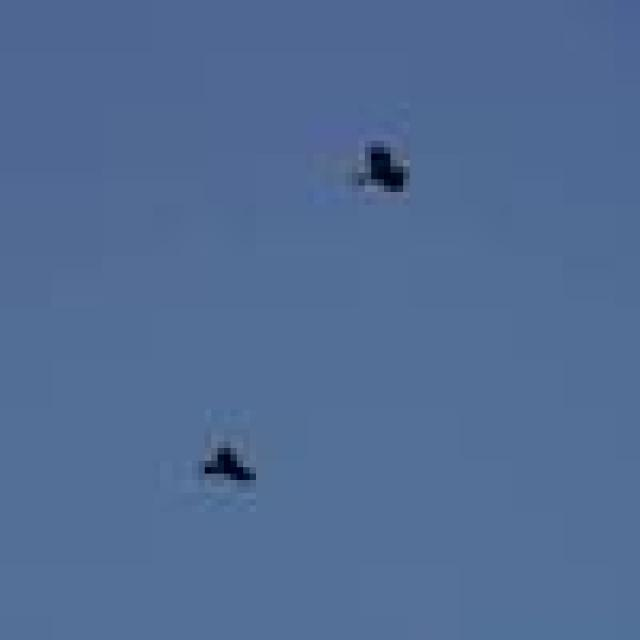bird: (141, 332, 301, 550), (314, 99, 486, 291)
